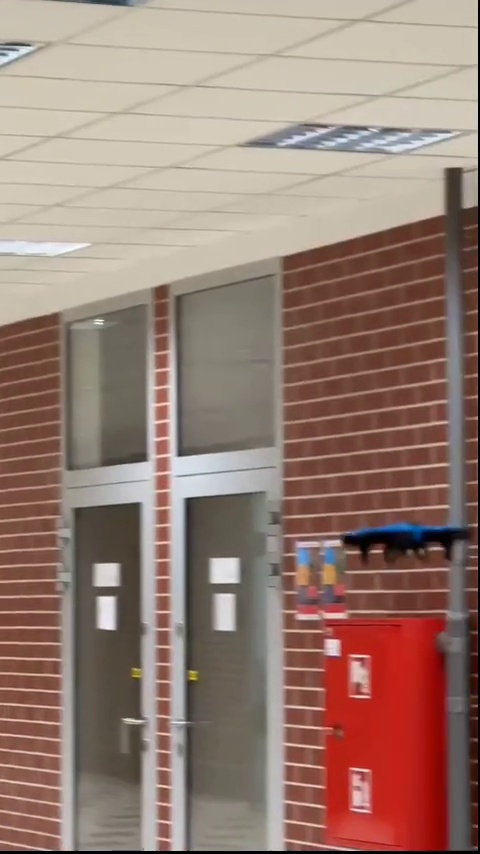drone: (345, 524, 474, 562)
